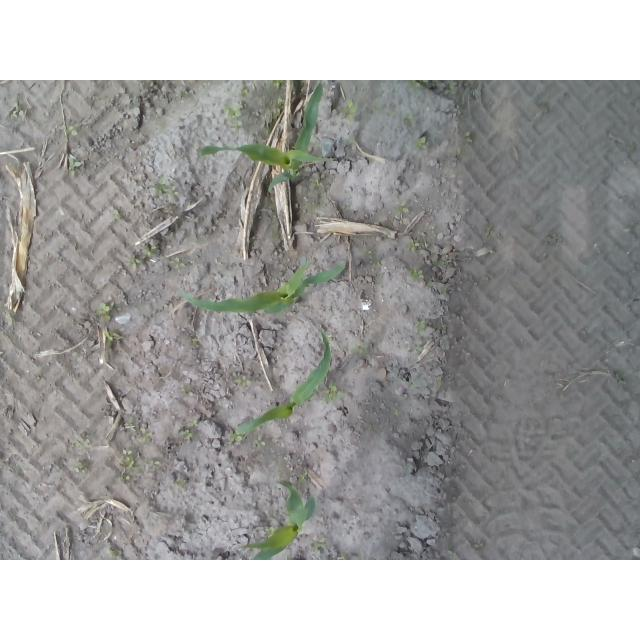Maize: (196, 81, 329, 193), (233, 327, 335, 433), (176, 261, 347, 316), (237, 478, 315, 560)
Weeds: (115, 447, 138, 482), (149, 174, 180, 198), (321, 383, 344, 401), (10, 100, 23, 121), (97, 304, 112, 321), (137, 427, 152, 444), (235, 375, 254, 388), (394, 201, 410, 216), (224, 104, 241, 118), (270, 97, 283, 115), (342, 99, 357, 114), (143, 456, 160, 469), (311, 537, 326, 551), (441, 81, 455, 96), (126, 256, 140, 270), (143, 245, 158, 258), (405, 240, 419, 253), (409, 269, 423, 282), (169, 256, 184, 268), (414, 137, 426, 152), (360, 248, 375, 260), (351, 342, 369, 352), (178, 431, 195, 441), (401, 114, 414, 127), (461, 131, 474, 144), (416, 321, 427, 336), (70, 159, 83, 171), (254, 435, 265, 449), (71, 439, 86, 449), (308, 178, 320, 190), (230, 431, 243, 441), (110, 210, 120, 223), (66, 127, 78, 137), (70, 463, 82, 473), (408, 80, 421, 89), (271, 80, 285, 88), (104, 334, 112, 347), (264, 527, 273, 538), (239, 88, 249, 97), (232, 123, 242, 129), (299, 474, 305, 484), (191, 419, 198, 427)
